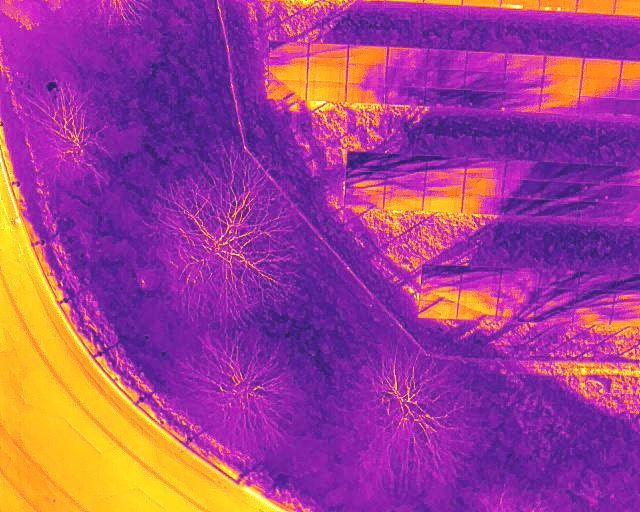No-Anomaly: (348, 44, 387, 65), (307, 63, 347, 83), (307, 81, 345, 102), (545, 56, 582, 76), (581, 78, 619, 97), (582, 59, 621, 77), (424, 196, 462, 212), (576, 0, 614, 15)
Shadowing: (387, 45, 426, 68), (267, 60, 308, 81), (419, 265, 460, 286), (576, 203, 617, 224), (387, 155, 428, 175), (384, 174, 425, 194), (507, 160, 546, 181), (386, 67, 426, 87), (425, 69, 465, 89), (503, 179, 545, 198), (581, 185, 620, 205), (467, 158, 506, 178), (427, 49, 466, 69), (346, 84, 386, 103), (347, 64, 385, 84), (347, 152, 387, 171), (545, 163, 585, 182), (425, 176, 463, 196), (503, 53, 543, 72), (497, 269, 539, 287), (584, 165, 623, 184), (309, 44, 348, 63), (544, 75, 581, 95), (466, 52, 504, 71), (386, 87, 426, 105), (267, 81, 307, 99), (466, 71, 506, 89), (540, 94, 580, 112), (426, 157, 466, 175), (347, 171, 383, 191), (460, 268, 502, 285), (466, 90, 503, 109), (543, 183, 580, 202), (497, 303, 534, 322), (427, 89, 466, 107), (536, 288, 575, 306), (457, 301, 496, 319), (500, 198, 541, 215), (506, 74, 544, 92), (580, 97, 618, 115), (464, 178, 502, 196), (462, 197, 500, 215), (541, 200, 577, 219), (383, 194, 423, 211), (417, 302, 457, 319), (503, 92, 542, 109), (345, 192, 384, 209), (540, 272, 579, 289), (459, 285, 498, 302), (420, 286, 459, 303), (269, 42, 308, 59), (533, 307, 573, 323), (498, 288, 537, 304), (576, 289, 615, 304), (572, 306, 611, 321), (578, 274, 615, 289)
